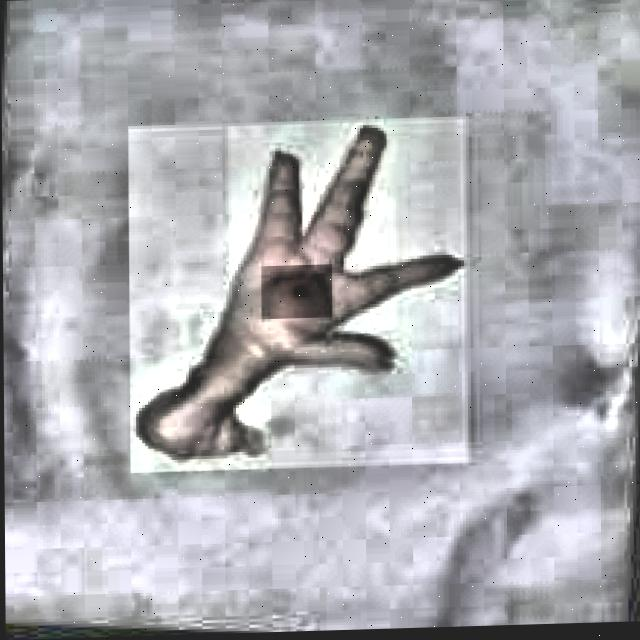Bumble foot: (260, 260, 328, 318)
